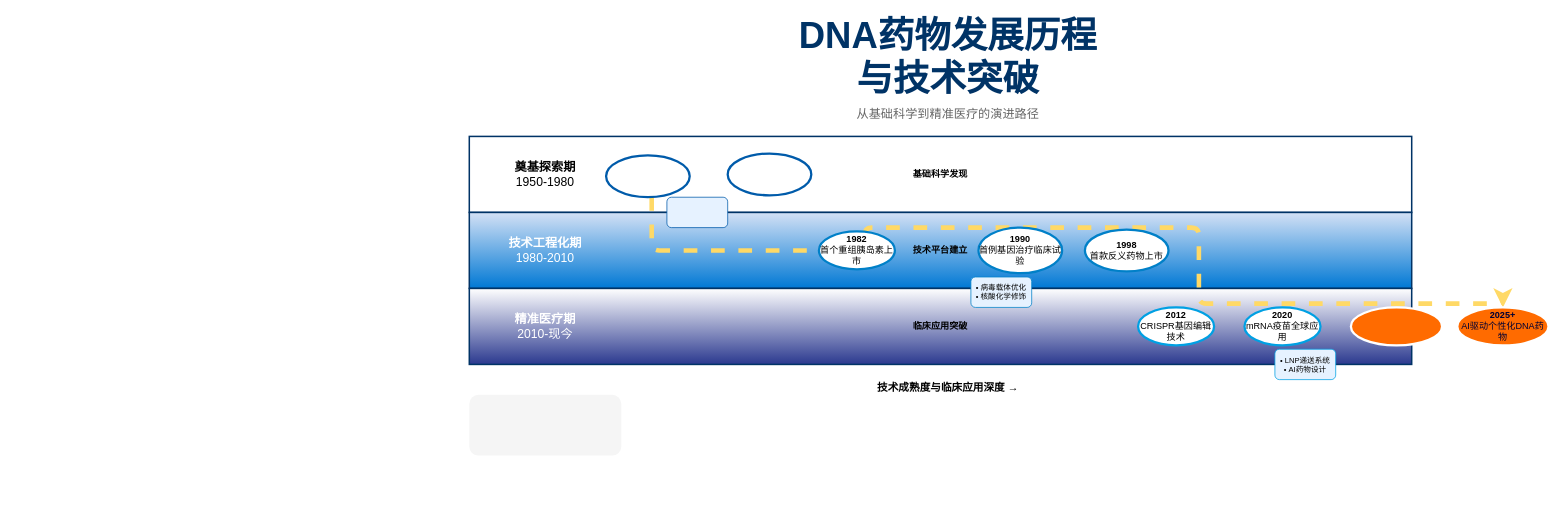
Image size: 1563x521. Some labels were removed from this diagram. The shapes that lost their labels are listed below. From the top down, each one's centre as x and y in pixels, then its label:
At (647,176): "1953 DNA双螺旋结构发现".
At (769,174): "1972 重组DNA技术诞生".
At (697,212): "• 基因克隆技术 • 测序技术突破".
At (1396,326): "2023 首款CRISPR基因编辑疗法获批".
At (545,424): "图例说明： • 蓝色泳道：发展阶段 • 橙色曲线：技术成熟轨迹 • 圆形节点：关键里程碑 • 浅蓝标签：核心技术突破".
